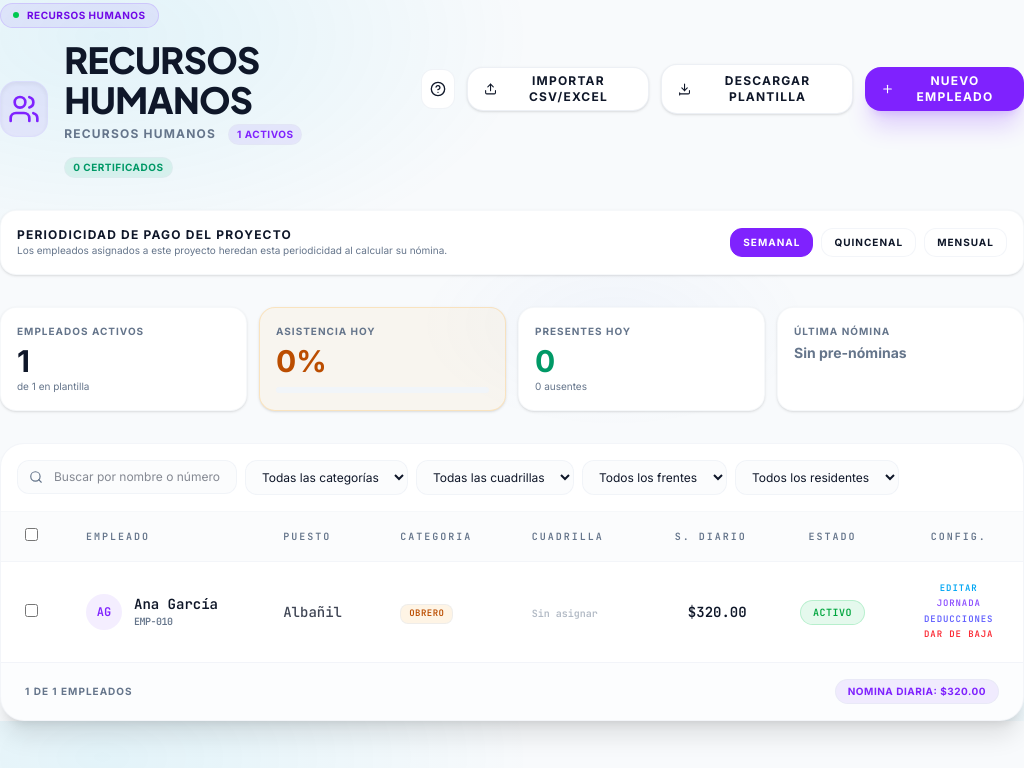
PersonalView — botón "Editar" empleado › abre el panel de edición precargado con los datos actuales del empleado
The width and height of the screenshot is (1036, 768).
Click the button "Editar" at (959, 588), box x1=940 y1=582 x2=978 y2=595
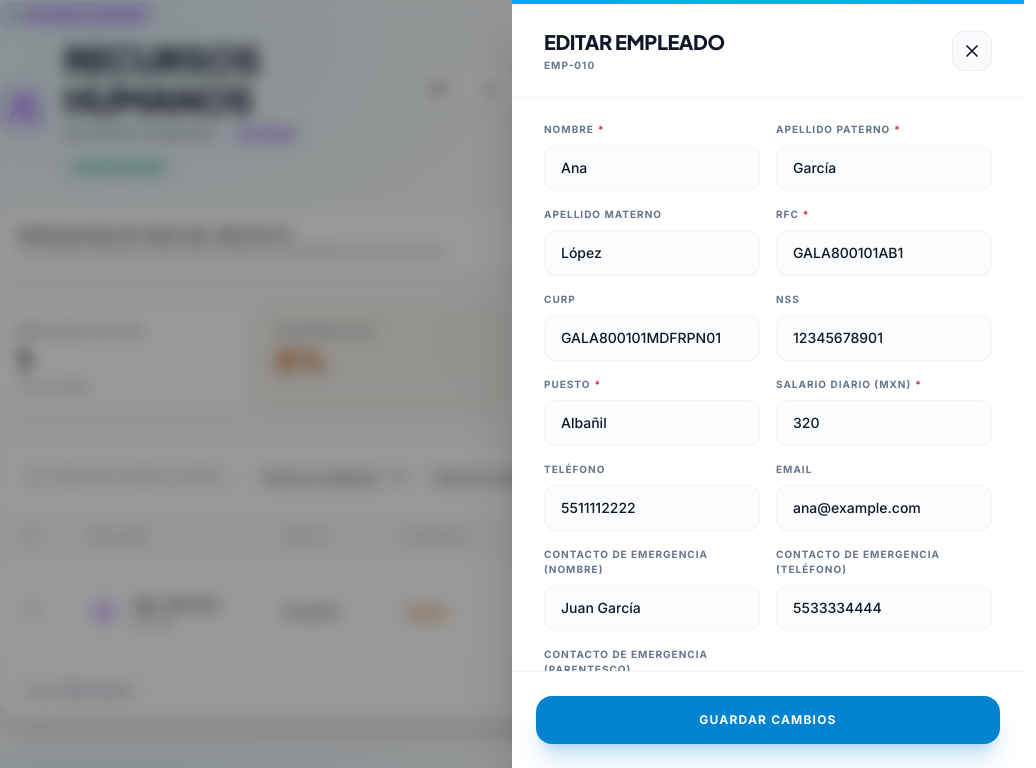
Result: the button "Guardar cambios" is shown at x1=536 y1=696 x2=1000 y2=744
